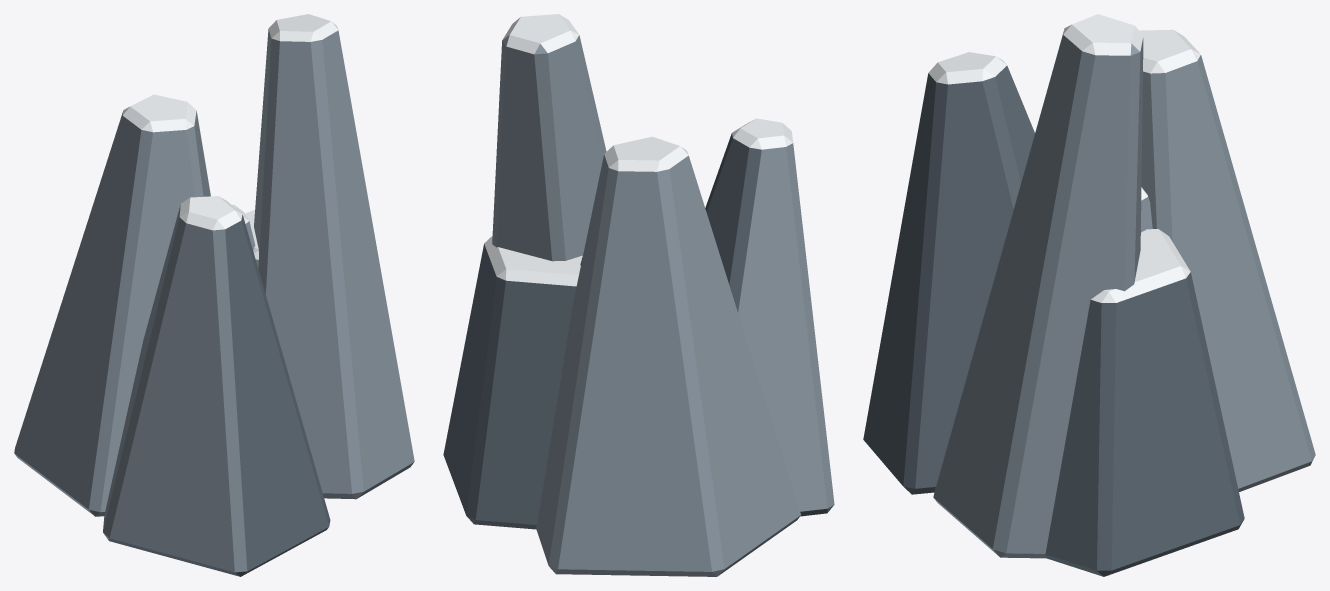
File: Crag_B.fbx
3 views of the same model, side by side, from view 1: azimuth 30°, elevation 25°; view 2: azimuth 150°, elevation 25°; view 3: azimuth 270°, elevation 25° (orthographic). The views are drawn at different scales.
Parts seen in each view (by area): view 1: Crag_B; view 2: Crag_B; view 3: Crag_B.
Boxes of the visible parts, box(x1,y1,x2,y2) form: Crag_B: box(14, 14, 414, 576); Crag_B: box(443, 14, 834, 576); Crag_B: box(863, 14, 1315, 576).
Bounding box in the file's own units: 2.38 × 3.09 × 2.48.
